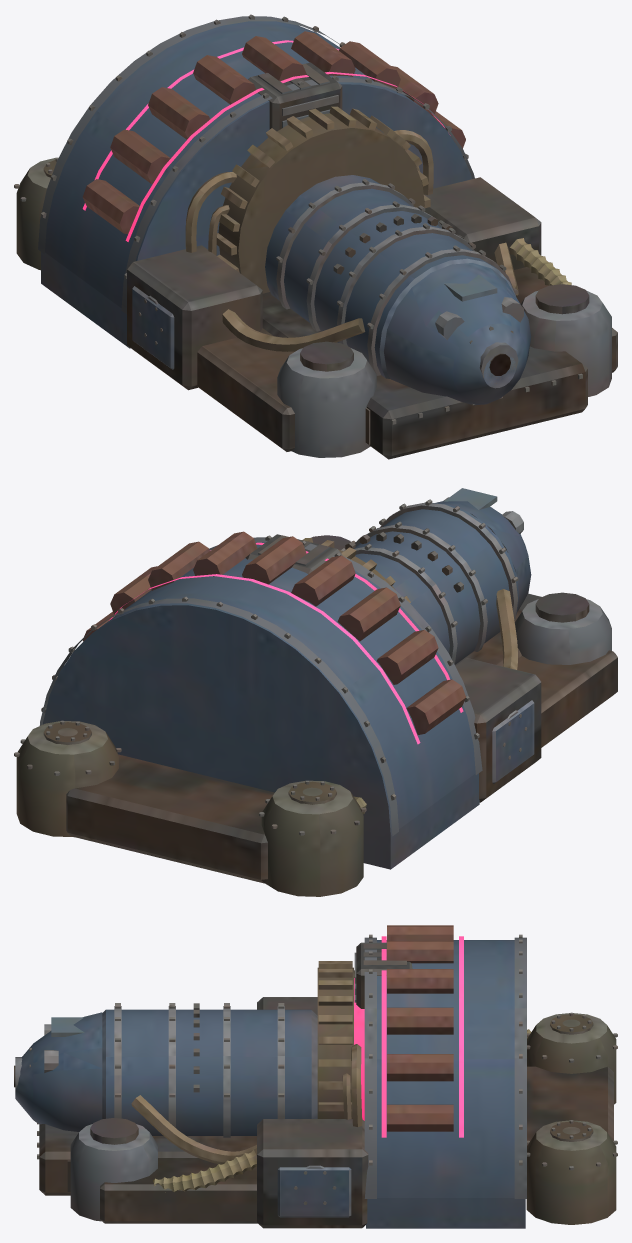
Rendered from fusion-generator.glb.
3 renders of one model, top to bottom at view 1: azimuth 30°, elevation 25°; view 2: azimuth 150°, elevation 25°; view 3: azimuth 270°, elevation 25°, orthographic. The views are drawn at different scales.
Visible parts, largest first — view 1: body, anim_roll_fusion_gear, anim_roll_fusion_coils, anim_glow_plasma; view 2: body, anim_roll_fusion_coils, anim_glow_plasma, anim_roll_fusion_gear; view 3: body, anim_roll_fusion_coils, anim_roll_fusion_gear, anim_glow_plasma.
Part boxes in pixels (x1,y1,x2,y2): body: (14,14,617,459); anim_roll_fusion_gear: (216,106,430,293); anim_roll_fusion_coils: (82,31,465,234); anim_glow_plasma: (82,40,450,241); body: (14,488,617,896); anim_roll_fusion_coils: (83,531,465,734); anim_glow_plasma: (109,542,463,744); anim_roll_fusion_gear: (302,538,410,602); body: (14,934,617,1228); anim_roll_fusion_coils: (387,925,453,1131); anim_roll_fusion_gear: (317,961,353,1118); anim_glow_plasma: (354,936,463,1137).
Bounding box in the file's own units: 3.13 × 1.92 × 4.99.
2 materials, 2 textured.
